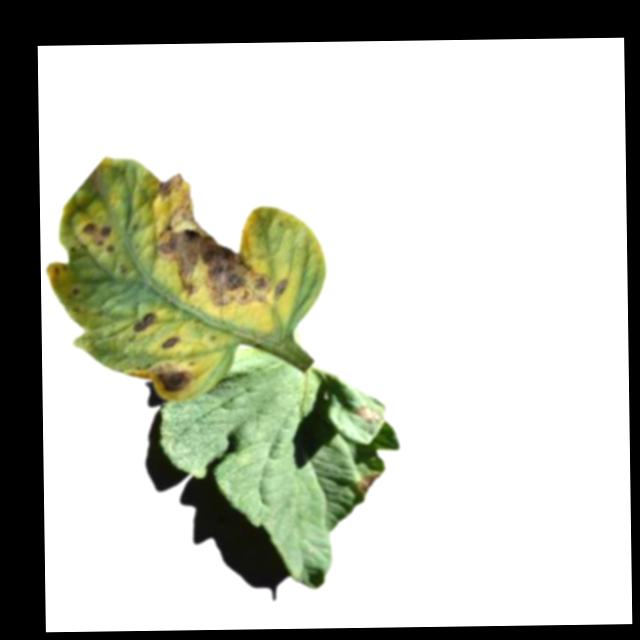Early_blight: (149, 171, 291, 313), (148, 366, 193, 395), (82, 222, 115, 255), (354, 471, 382, 496), (353, 406, 383, 426), (133, 313, 155, 337), (159, 337, 177, 355)
